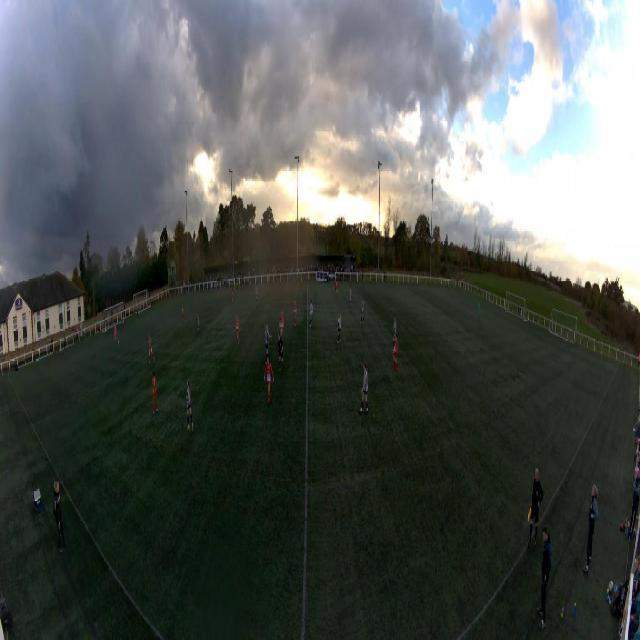ball: (118, 341, 119, 343)
player: (359, 362, 369, 413), (263, 358, 275, 400), (186, 382, 195, 430), (152, 370, 159, 416), (277, 332, 284, 370), (265, 324, 272, 358), (393, 334, 398, 374), (148, 333, 154, 364), (337, 312, 342, 346), (279, 311, 285, 339), (235, 314, 240, 346), (360, 296, 365, 326), (392, 316, 397, 344), (293, 299, 298, 325), (309, 300, 313, 328), (197, 313, 201, 338), (348, 285, 352, 306), (334, 281, 338, 298), (477, 302, 480, 320), (255, 286, 258, 304), (114, 325, 117, 342), (182, 305, 184, 325), (232, 288, 234, 305)
